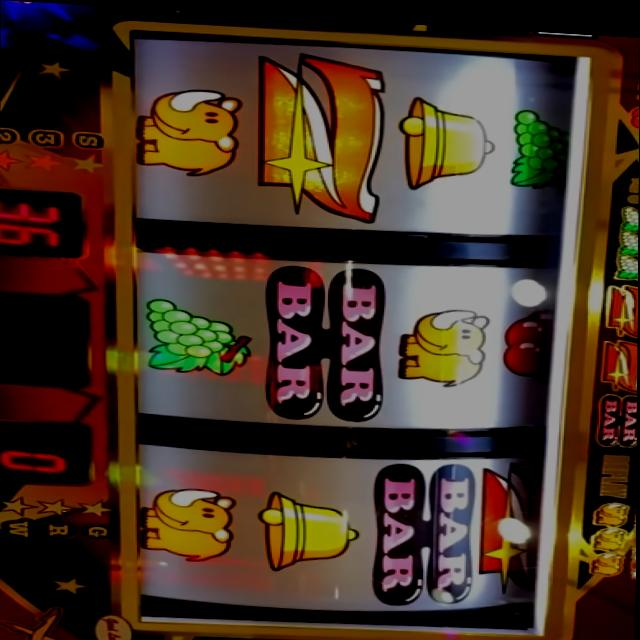bar: (265, 262, 384, 420), (375, 454, 482, 607), (591, 387, 638, 443)
bell: (393, 91, 495, 188), (257, 486, 362, 572)
cherry: (500, 298, 553, 375)
display: (134, 26, 588, 640)
elephant: (142, 85, 241, 177), (142, 483, 239, 562), (399, 301, 490, 383), (589, 542, 628, 570), (591, 519, 628, 545), (593, 493, 628, 518)
grape: (141, 297, 254, 375), (504, 101, 575, 184), (614, 247, 638, 272), (614, 222, 637, 247), (617, 198, 639, 223)
z: (253, 48, 386, 219), (481, 455, 539, 586), (600, 332, 638, 384), (605, 276, 639, 329)
